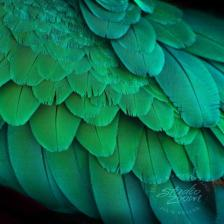green: (1, 0, 224, 224)
